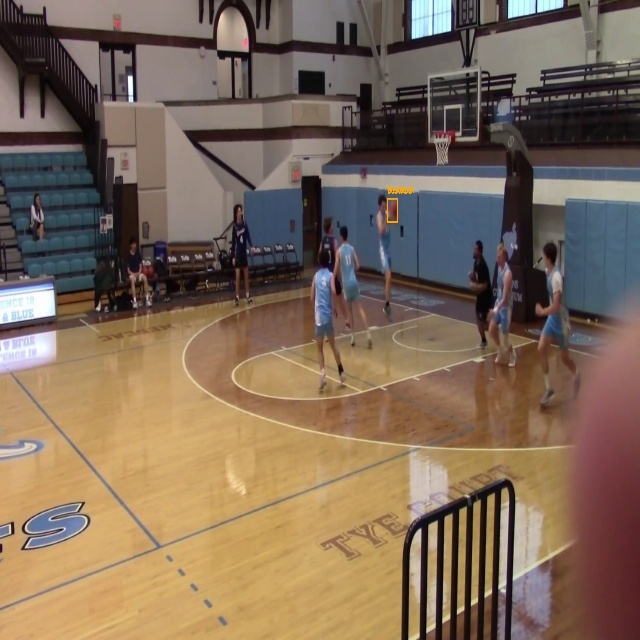Basketball: (387, 199, 397, 222)
